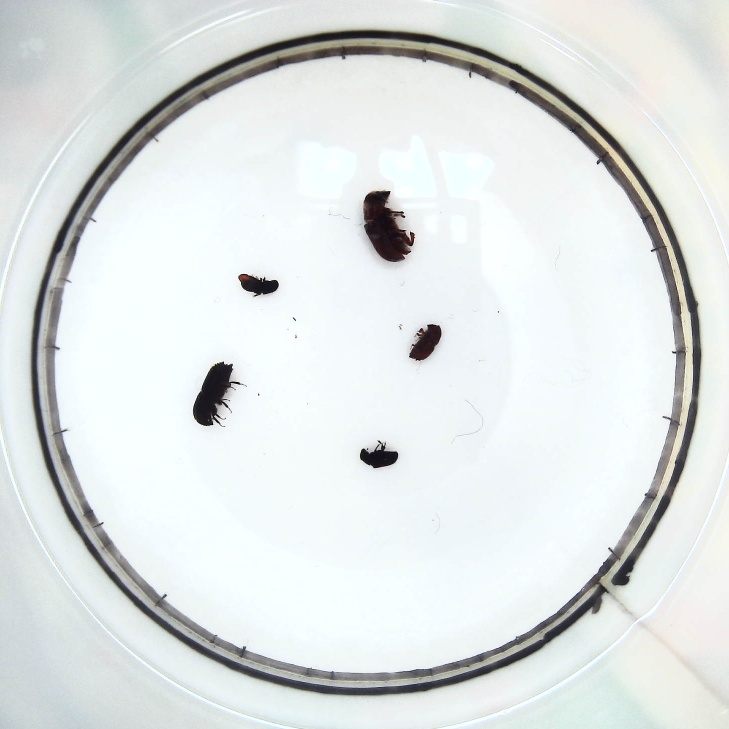armandi: (234, 270, 280, 300)
boerner: (191, 359, 245, 428)
coleoptera: (355, 440, 402, 469)
leconte: (362, 186, 416, 265)
linnaeus: (407, 320, 445, 363)
